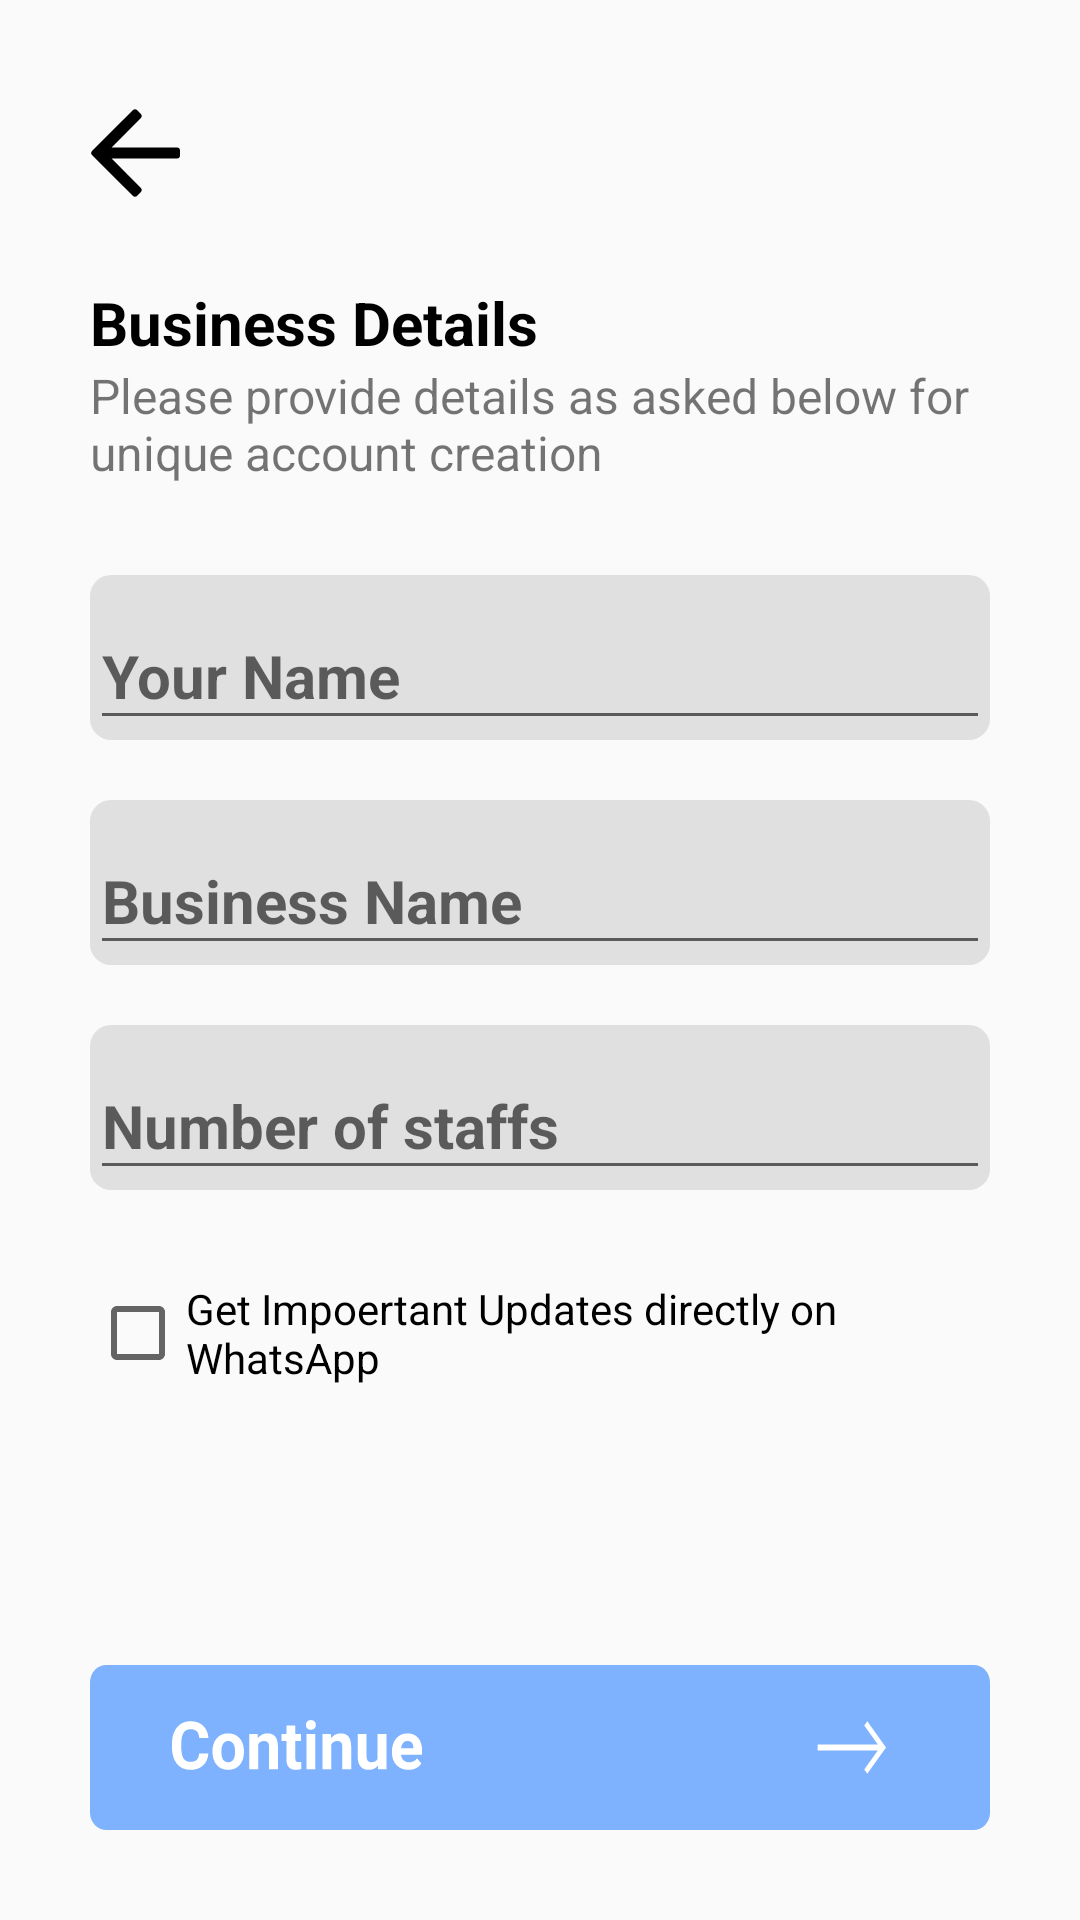

Named icons in this screenshot (1080px×1920px) and their centers, [x,y]:
back: [135,153]
